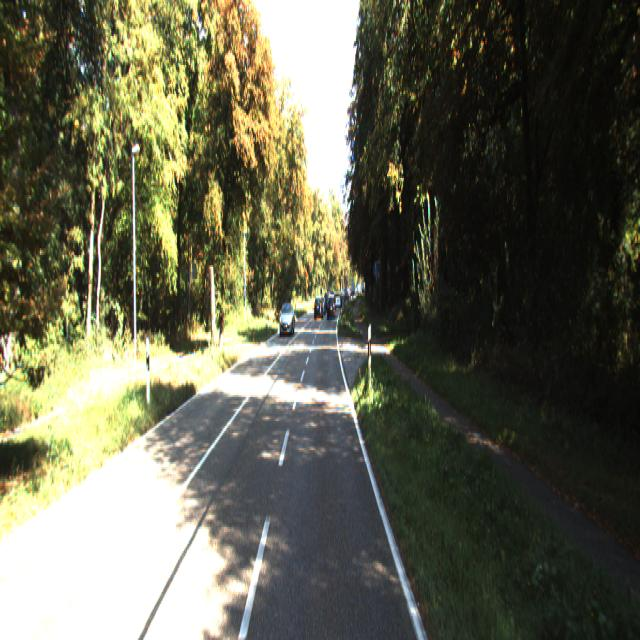Car: (278, 299, 296, 334)
DontCare: (314, 279, 361, 316)
